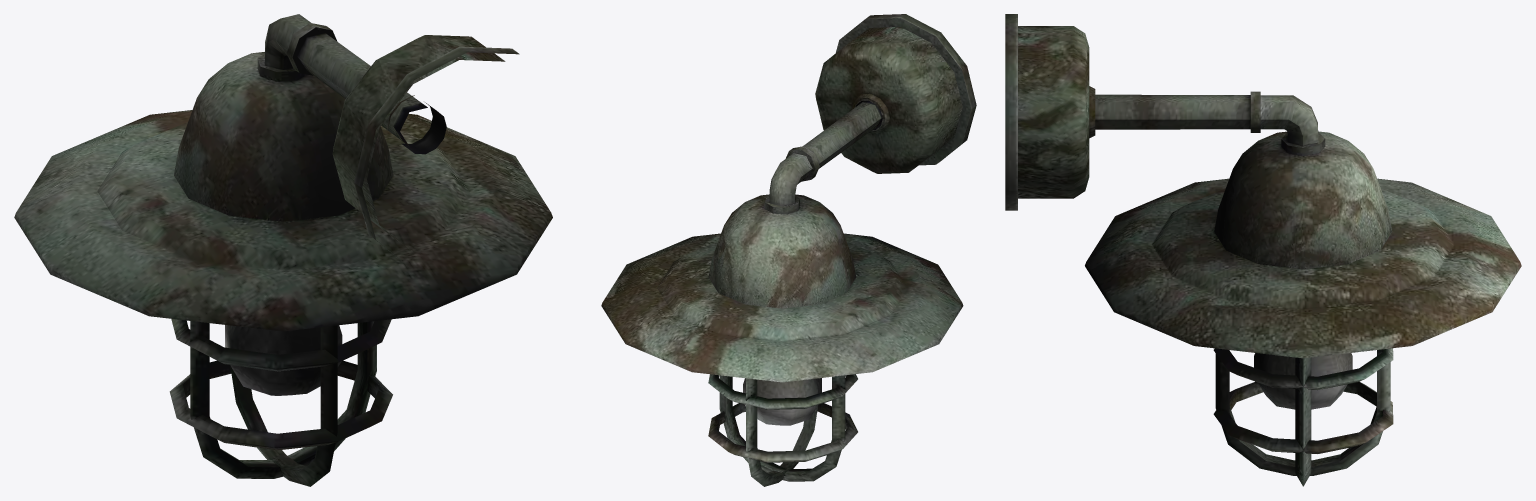
Rendered from light_outdoor.glb.
3 views of the same model, side by side, from view 1: azimuth 30°, elevation 25°; view 2: azimuth 150°, elevation 25°; view 3: azimuth 270°, elevation 25° (orthographic). The views are drawn at different scales.
Parts seen in each view (by area): view 1: 0_light_outdoor; view 2: 0_light_outdoor; view 3: 0_light_outdoor.
Boxes of the visible parts, x1,y1,x2,y2 form: 0_light_outdoor: (14, 14, 552, 486); 0_light_outdoor: (601, 14, 976, 486); 0_light_outdoor: (1005, 14, 1521, 486).
Size of the model in its own units: 0.4169 by 0.477 by 0.4927.
1 material, 1 textured.
